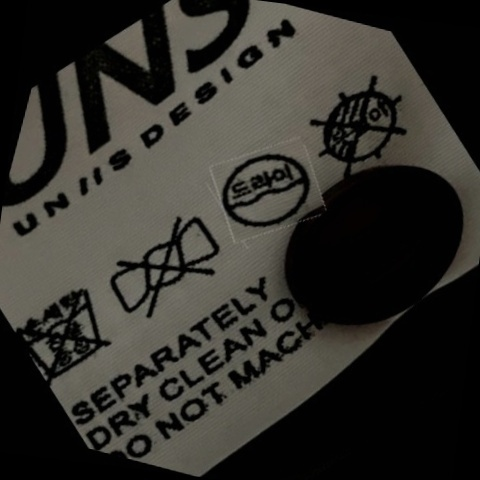DN_dry: (302, 69, 416, 185)
DN_wring: (100, 205, 229, 334)
dry_clean: (215, 138, 319, 245)
hand_wash: (14, 271, 123, 388)
